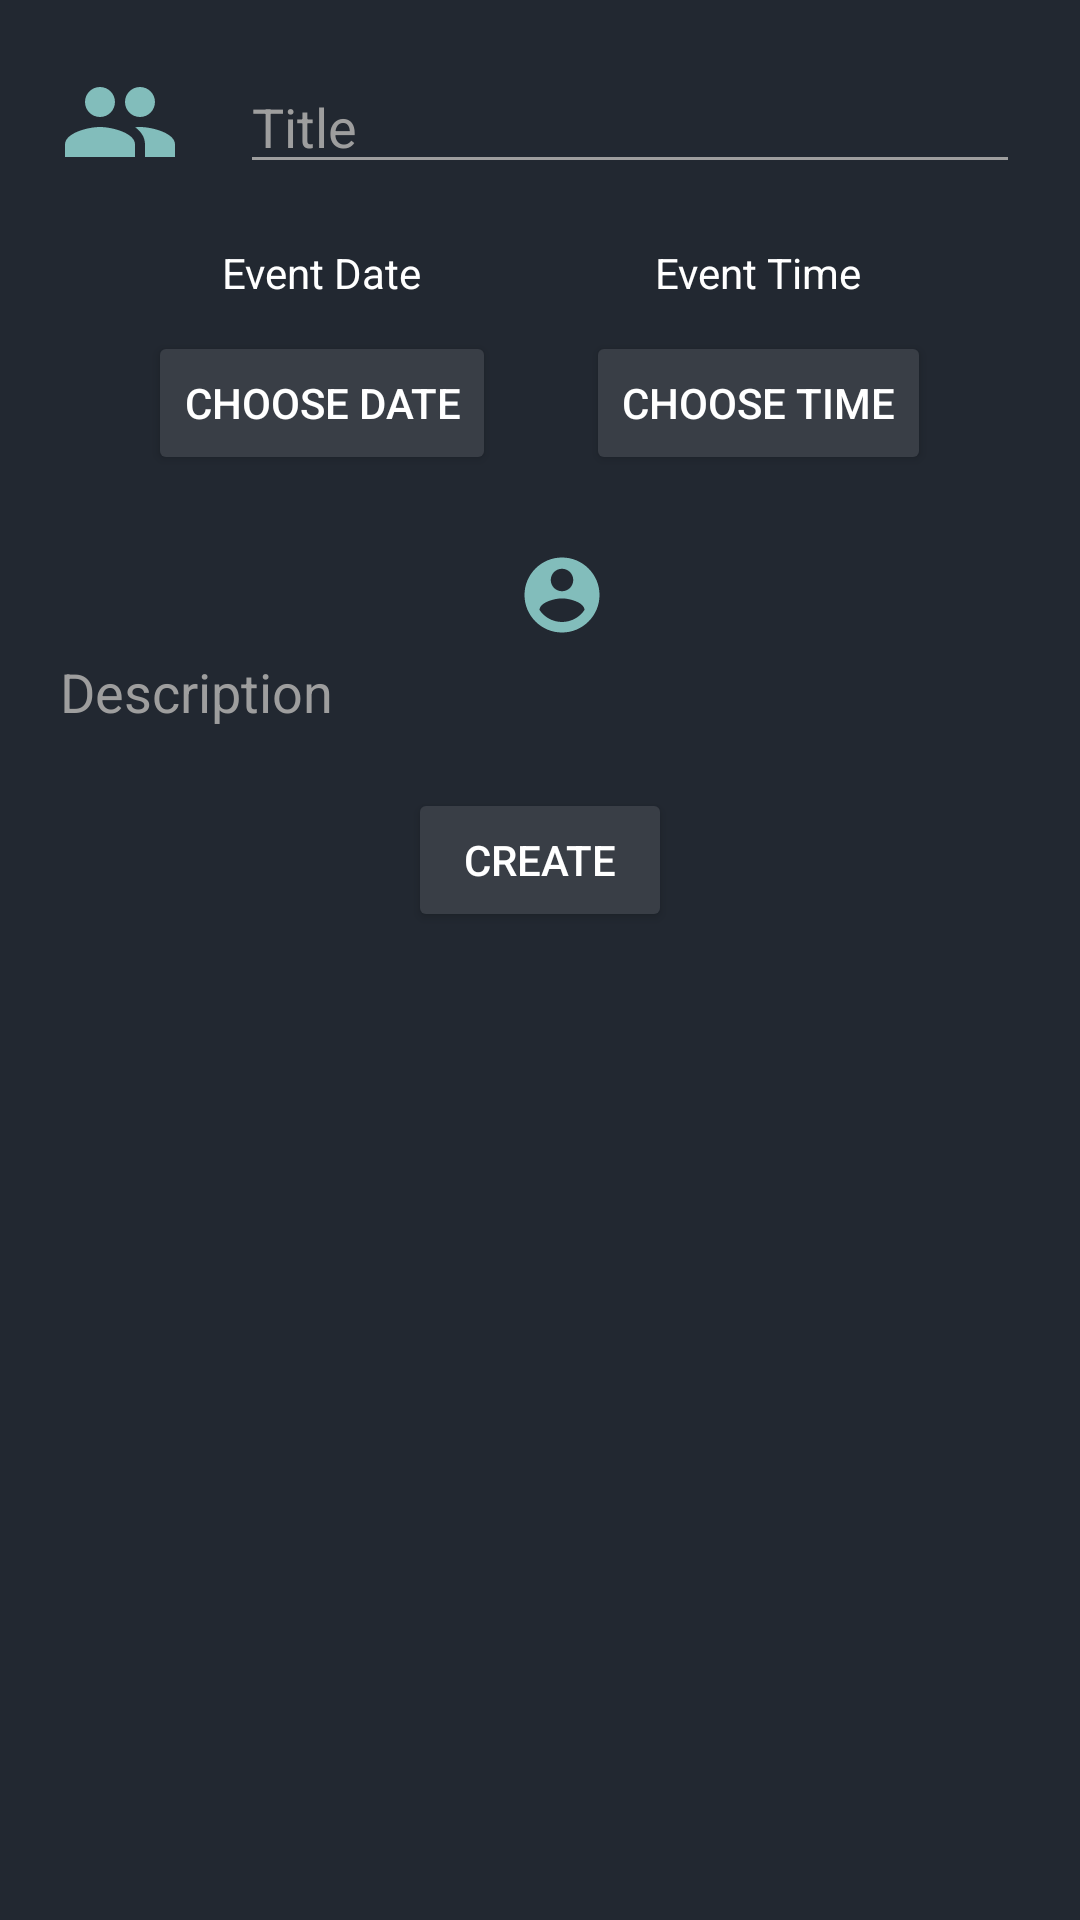

Screen size 1080w x 1920h. Icon name, then its box in pixels as (left=x1, top=y1, right=x2, bottom=y2):
account circle: (left=524, top=557, right=600, bottom=633)
two people: (left=65, top=87, right=175, bottom=157)
